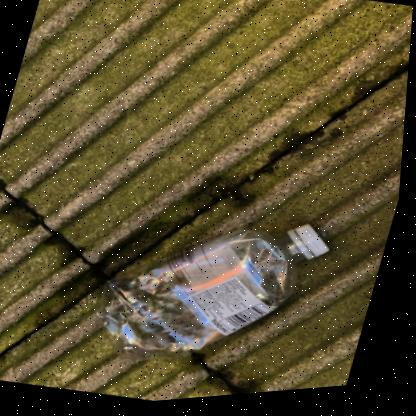Plastic: (100, 229, 333, 363)
